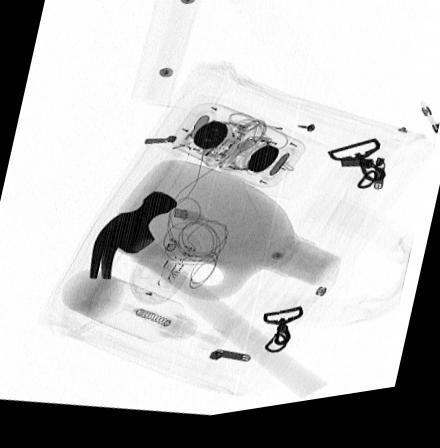Hammer: (90, 195, 328, 407)
